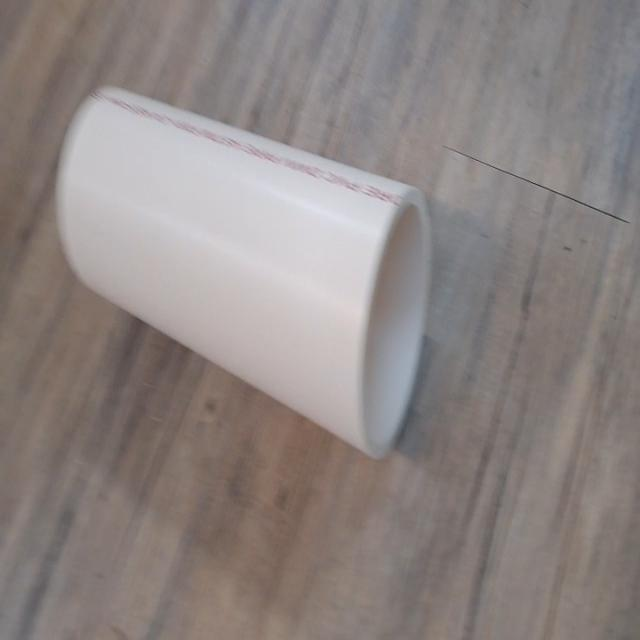CORAL: (48, 70, 438, 465)
